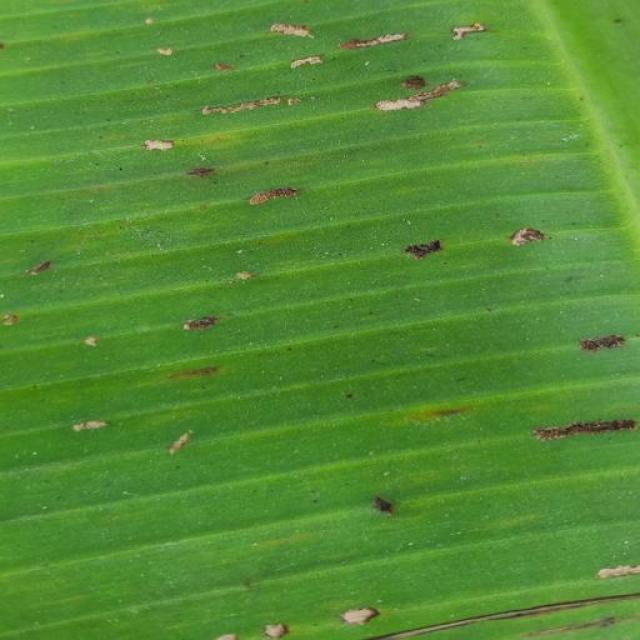Black_rot: (114, 3, 519, 147), (100, 119, 330, 242), (67, 345, 244, 480), (507, 320, 640, 464), (378, 206, 580, 288), (194, 595, 446, 640), (172, 262, 292, 344), (309, 464, 444, 528), (559, 534, 640, 640), (5, 245, 81, 342), (399, 392, 489, 441)
